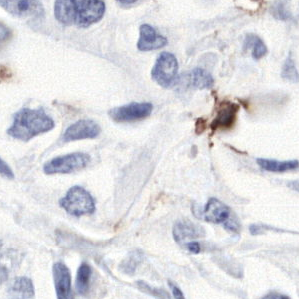Lymphocyte: (202, 91, 243, 134)
